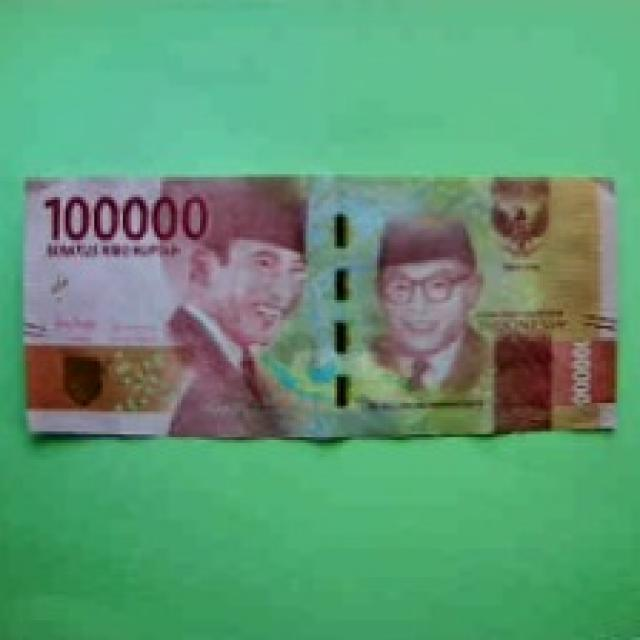lima puluh ribu rupiah: (27, 145, 620, 438)
